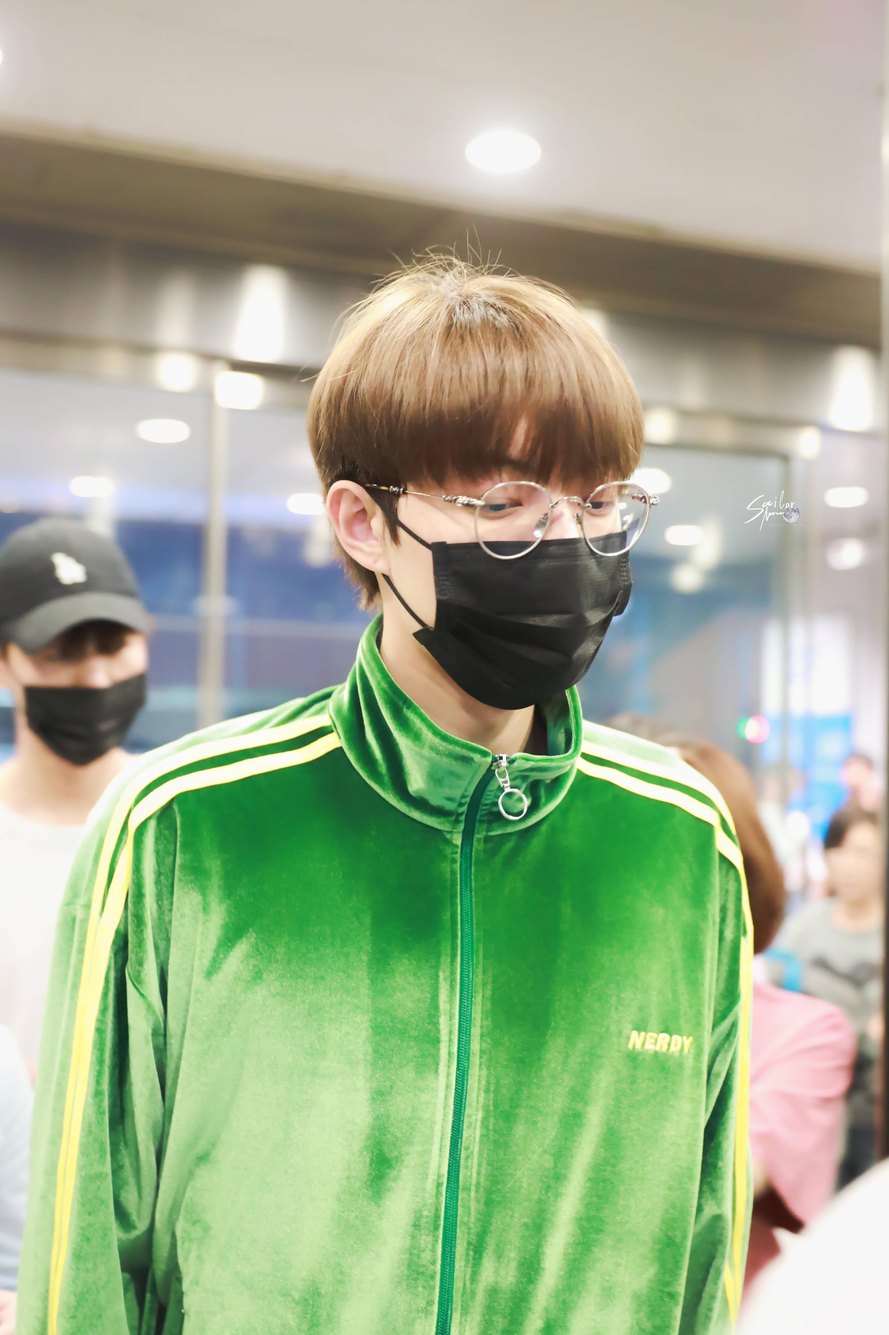NONE: (820, 826, 880, 906)
OK: (416, 460, 632, 712)
WRONG: (27, 633, 148, 766)
